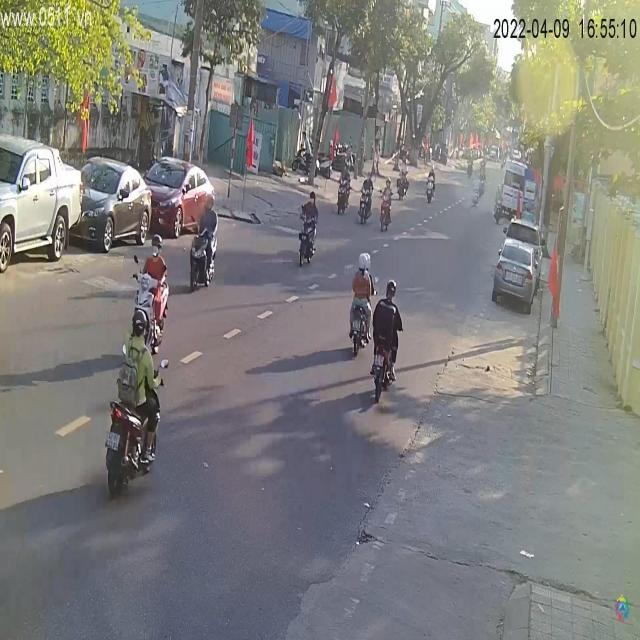car: (1, 140, 83, 274), (72, 158, 156, 254), (141, 155, 218, 241), (491, 222, 544, 316), (498, 160, 538, 224)
motorcycle: (105, 394, 161, 503), (368, 314, 402, 401), (186, 217, 220, 290), (298, 213, 316, 270), (358, 184, 374, 227), (379, 193, 393, 234)
